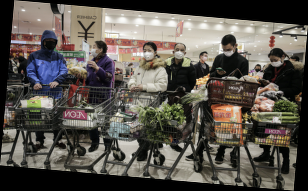with_mask: (267, 57, 284, 68), (142, 47, 154, 62), (221, 47, 235, 59), (173, 47, 185, 61), (45, 37, 57, 51), (90, 43, 99, 58), (200, 54, 210, 63), (254, 66, 261, 73), (13, 59, 18, 64), (129, 64, 133, 69), (10, 58, 14, 62)
